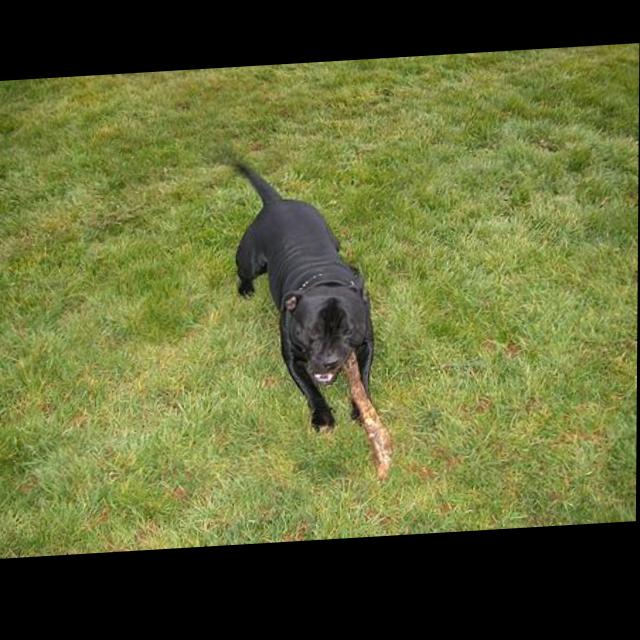staffford: (231, 152, 380, 443)
